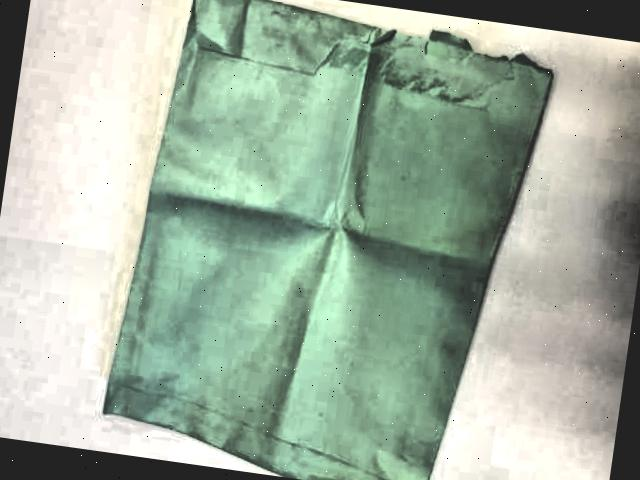Paper: (94, 0, 630, 480)
